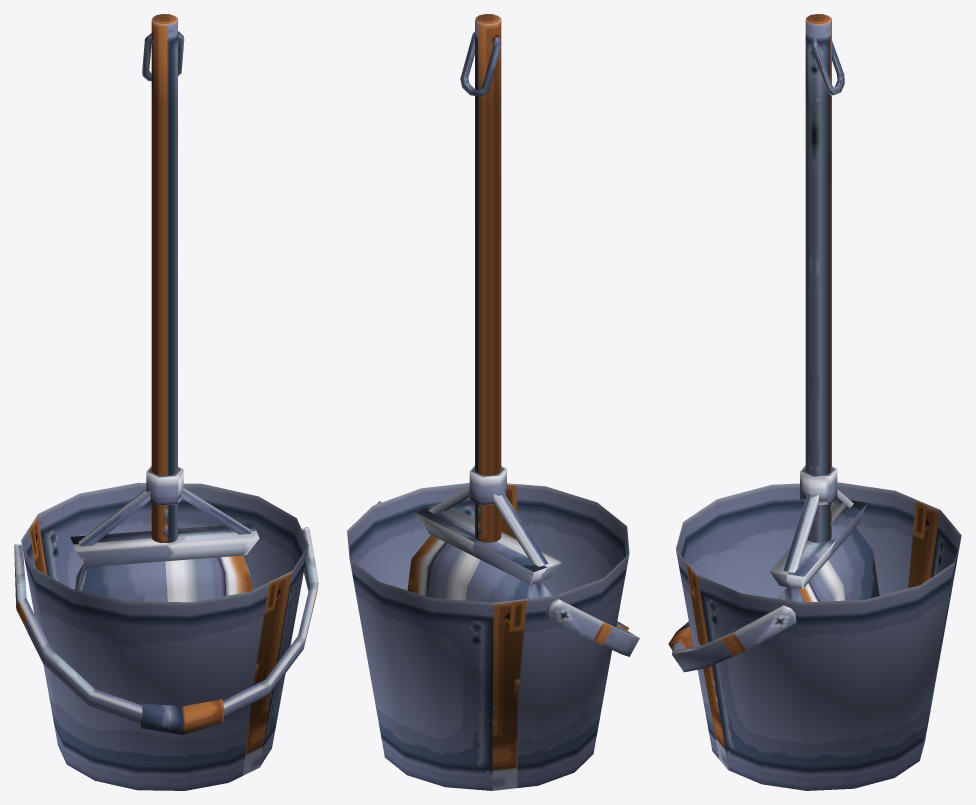
Rendered from int_sch_cleantools.dae.
3 views of the same model, side by side, from view 1: azimuth 30°, elevation 25°; view 2: azimuth 150°, elevation 25°; view 3: azimuth 270°, elevation 25° (orthographic).
Parts seen in each view (by area): view 1: int_sch_cleantools; view 2: int_sch_cleantools; view 3: int_sch_cleantools.
Part boxes in pixels (box(x1,y1,x2,y2)): int_sch_cleantools: box(14, 14, 318, 790); int_sch_cleantools: box(347, 14, 639, 790); int_sch_cleantools: box(668, 14, 961, 790).
Bounding box in the file's own units: 20.19 × 53.81 × 19.69.
Materials: 1 (1 with a texture image).
